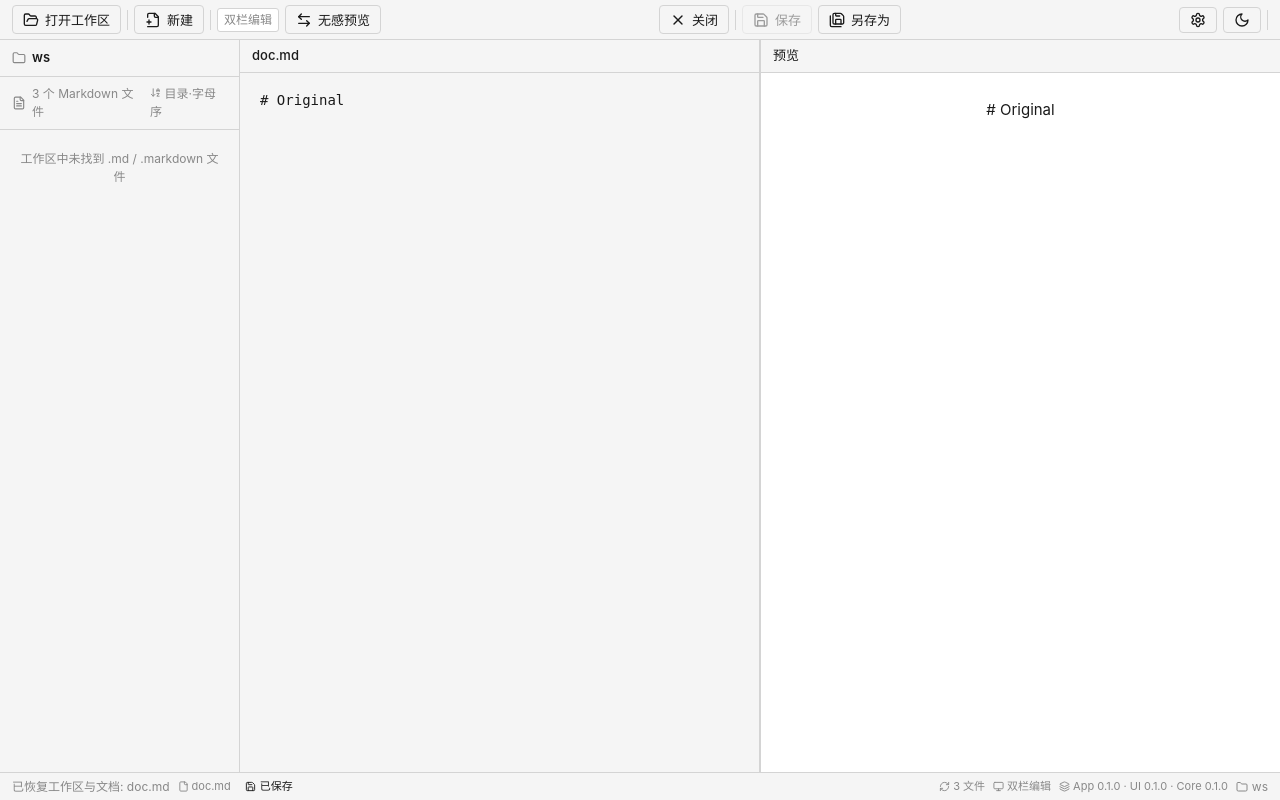
Test: T11 — 无感编辑器与保存状态联动 › 模式切换后编辑内容不丢失
Replace the text in the text box with class "content-editor-textarea" with "# Edited in split" at (500, 422), box [240, 72, 759, 772]
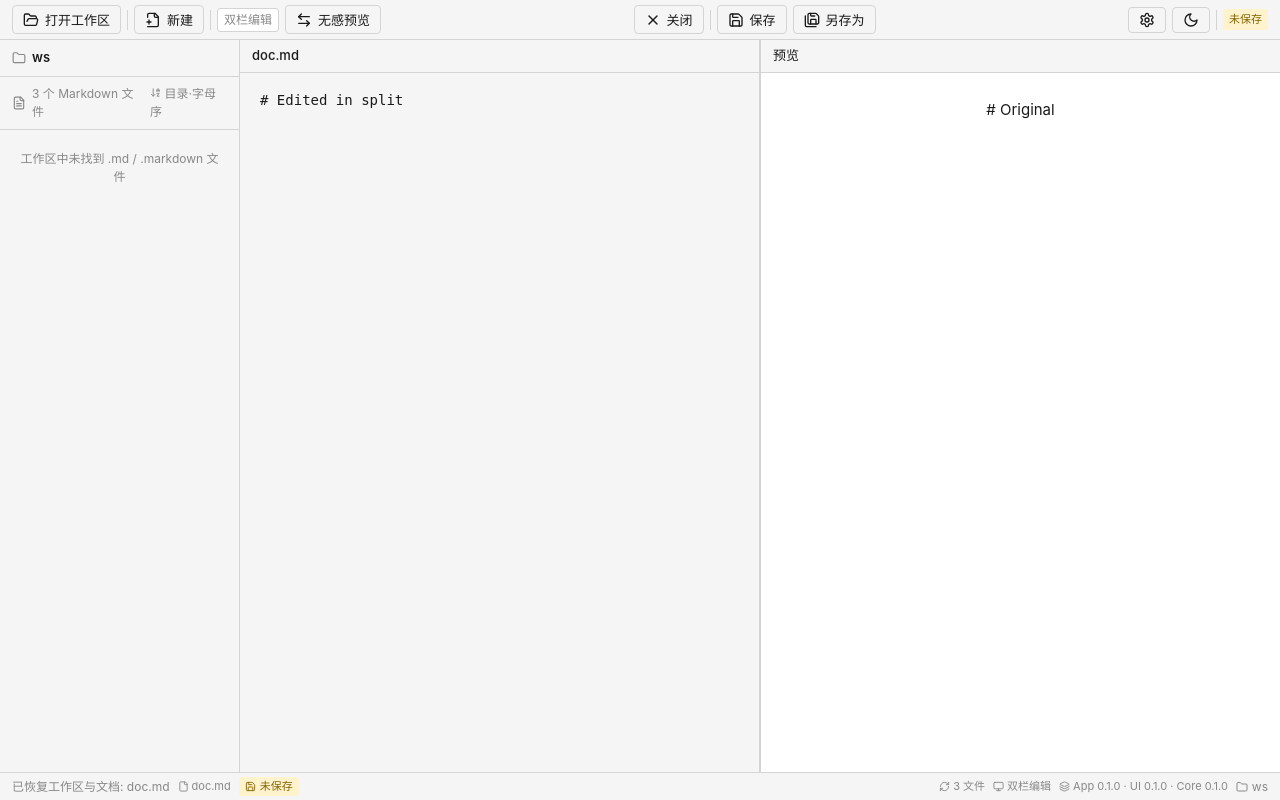
Press 1
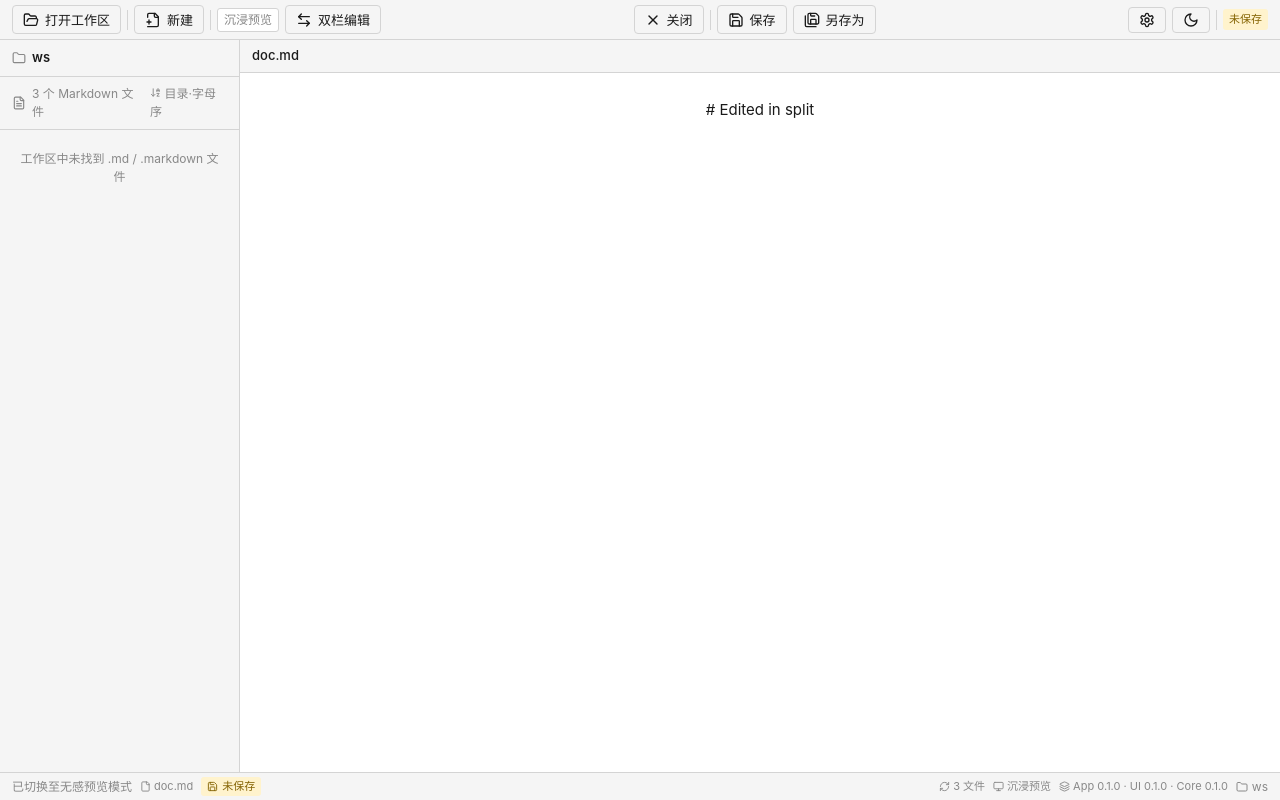
Check: the text box with class "content-editor-textarea" is gone
Press 2
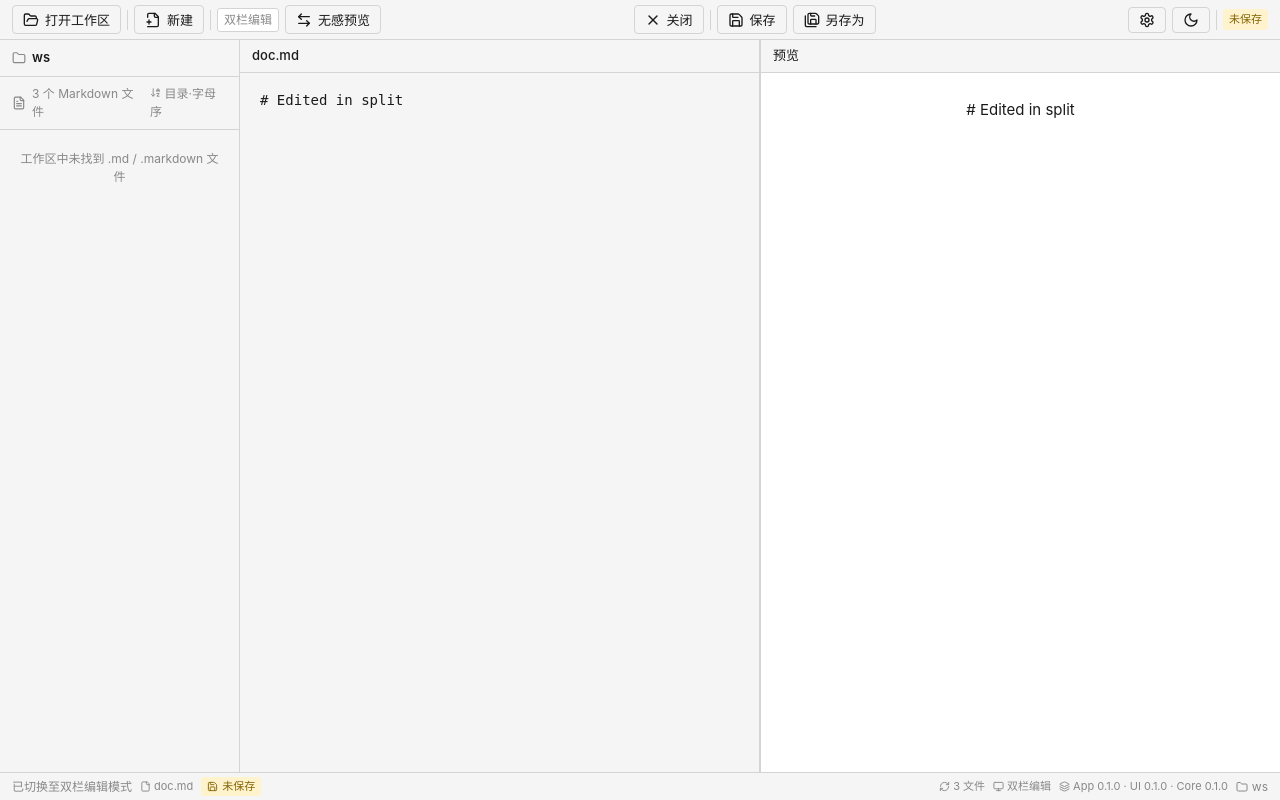
Check: the text box with class "content-editor-textarea" holds "# Edited in split", box [240, 72, 759, 772]
